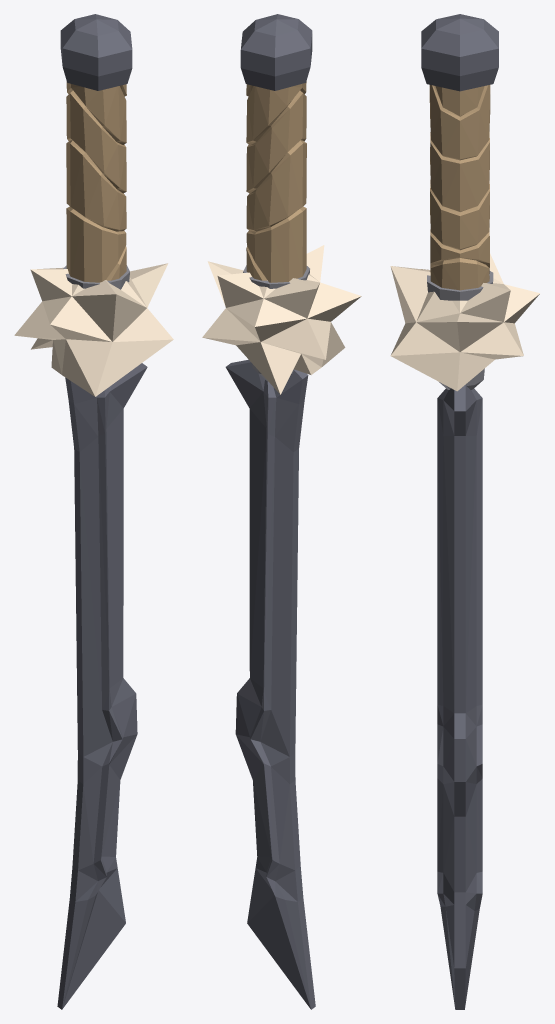
The model's file is _SWORD_1.fbx.
3 views of the same model, side by side, from view 1: azimuth 30°, elevation 25°; view 2: azimuth 150°, elevation 25°; view 3: azimuth 270°, elevation 25° (orthographic). The views are drawn at different scales.
Parts seen in each view (by area): view 1: SWORD_1; view 2: SWORD_1; view 3: SWORD_1.
Part boxes in pixels (x1=…): SWORD_1: x1=14, y1=14, x2=173, y2=1009; SWORD_1: x1=202, y1=14, x2=361, y2=1009; SWORD_1: x1=390, y1=14, x2=539, y2=1009.
Size of the model in its own units: 23.08 by 158 by 21.33.
